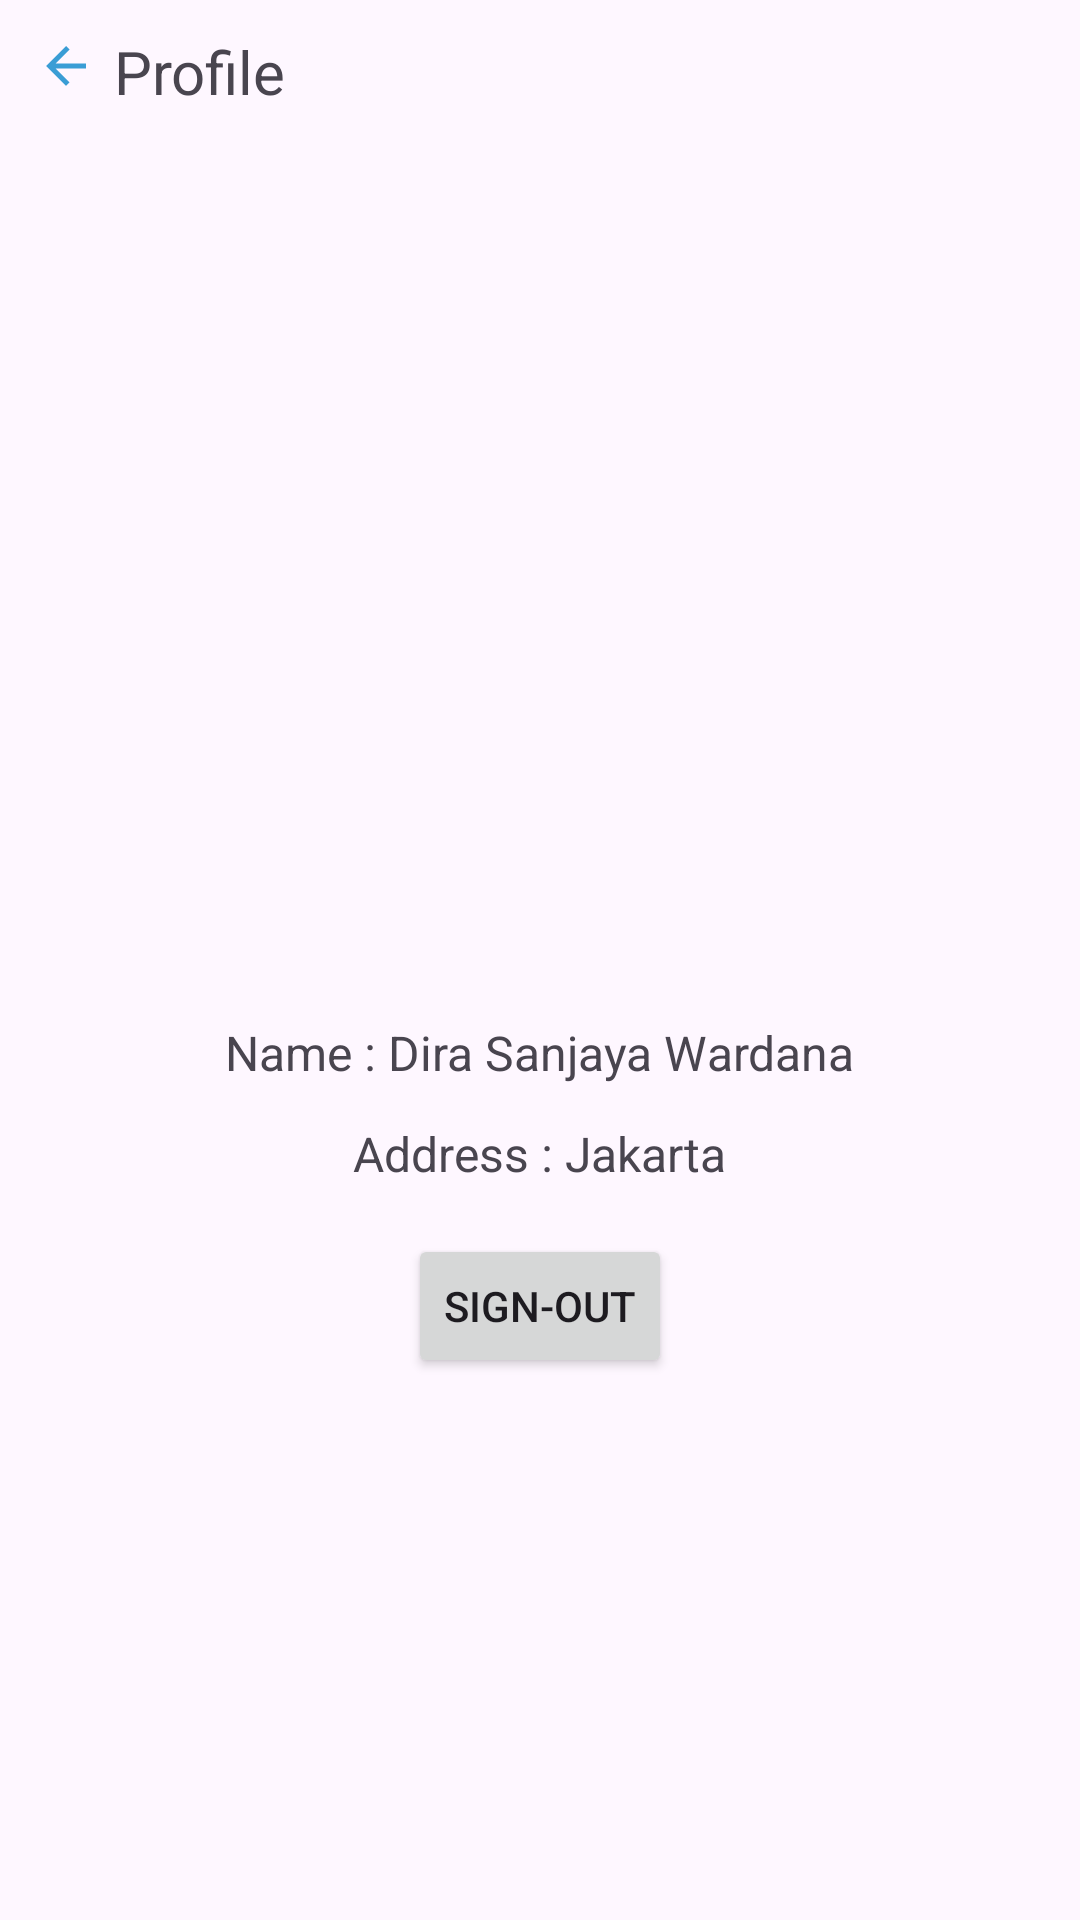

Where icons sit on this 1080px×1920px app screen, as bbox=[x1, y1, x2, y2]:
arrow back: bbox=[46, 46, 86, 86]
